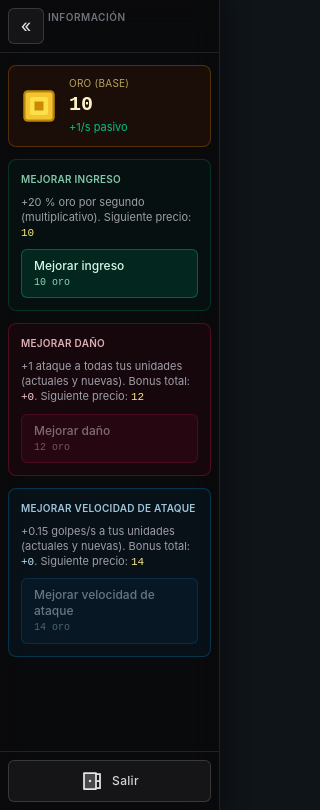
Test case: GameInfoSidebar › compra mejora de ingreso con oro suficiente
The image size is (320, 810).
Click the button "Mejorar ingreso 10 oro". click: {"x": 110, "y": 274}
box: [21,249,198,298]
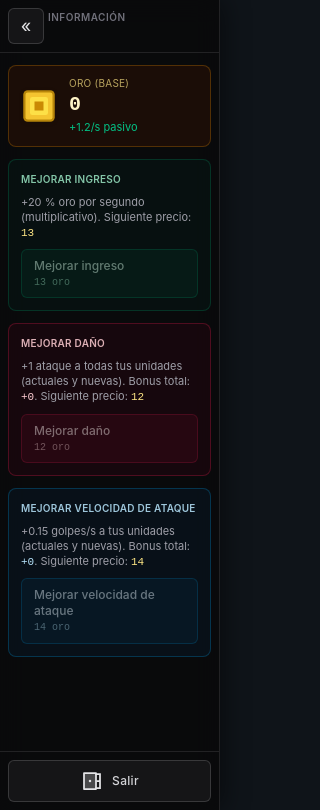
Check: the element named "Barra de información" shows "+1.2/s pasivo"
